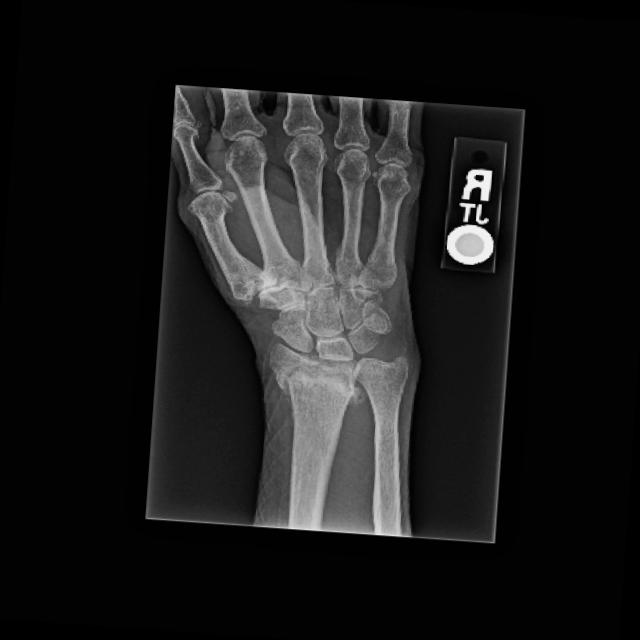wrist positive: (247, 340, 413, 425)
